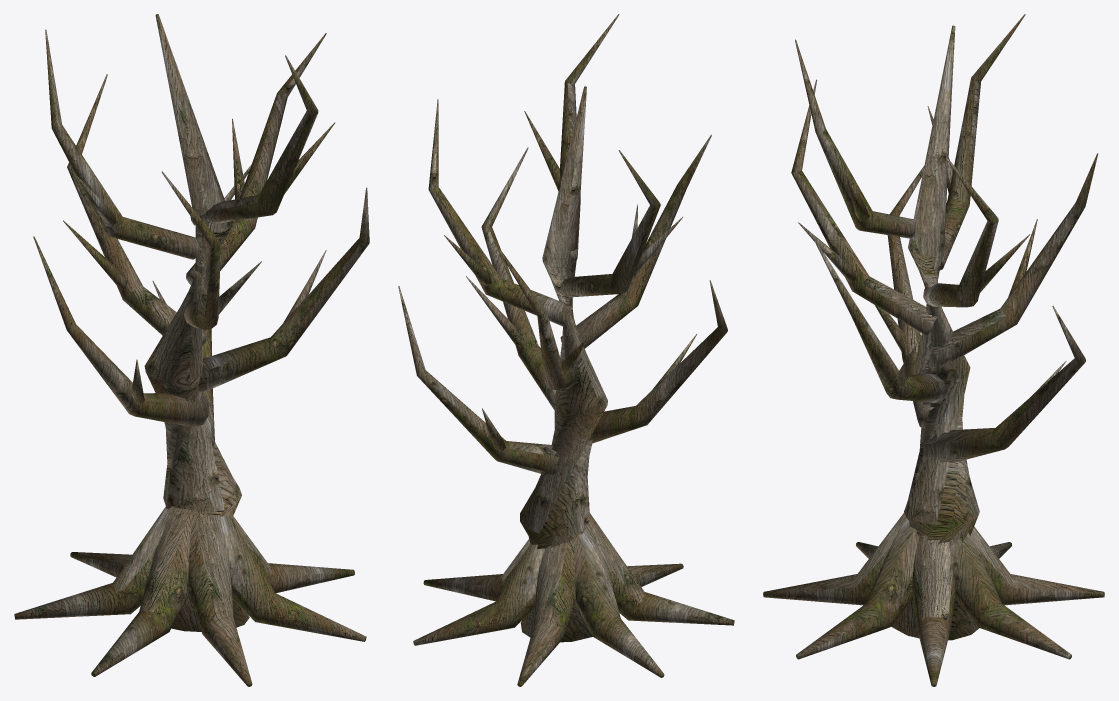
Rendered from ancient_tree_1.glb.
The picture shows the model from 3 angles, left to right: view 1: azimuth 30°, elevation 25°; view 2: azimuth 150°, elevation 25°; view 3: azimuth 270°, elevation 25°; orthographic projection. The views are drawn at different scales.
Visible parts, largest first — view 1: Ancient trunk; view 2: Ancient trunk; view 3: Ancient trunk.
Boxes of the visible parts, bbox=[...] form: Ancient trunk: bbox=[14, 14, 369, 686]; Ancient trunk: bbox=[398, 14, 734, 686]; Ancient trunk: bbox=[763, 14, 1104, 686].
Size of the model in its own units: 4.43 by 8.19 by 4.31.
Materials: 1 (1 with a texture image).
